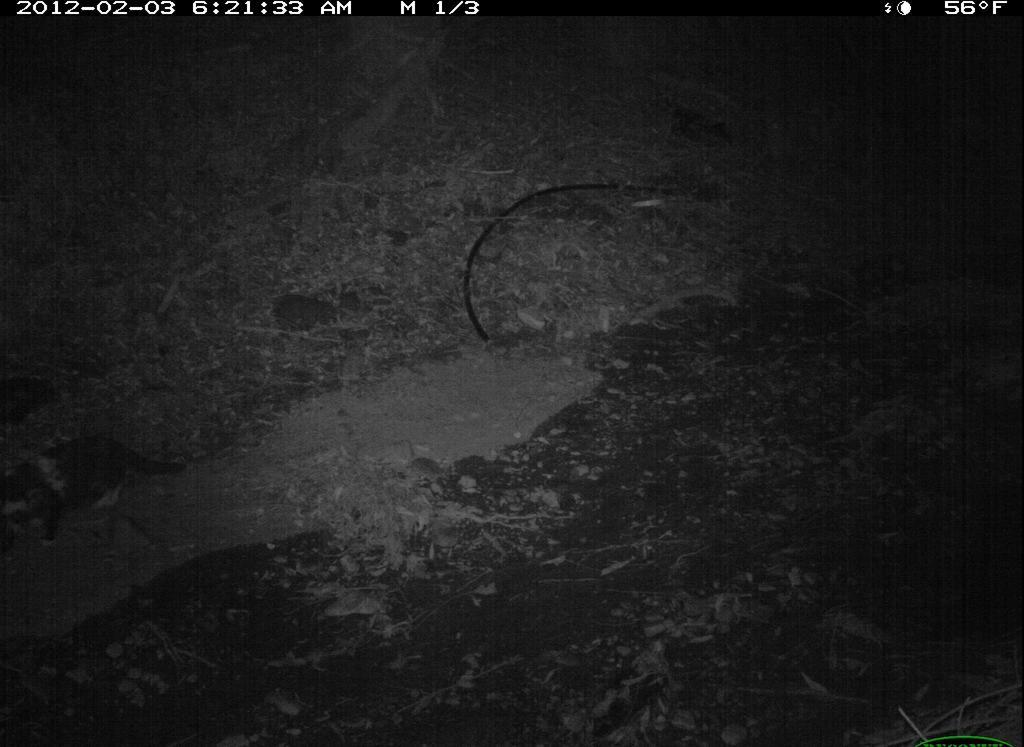cat: (2, 431, 193, 553)
